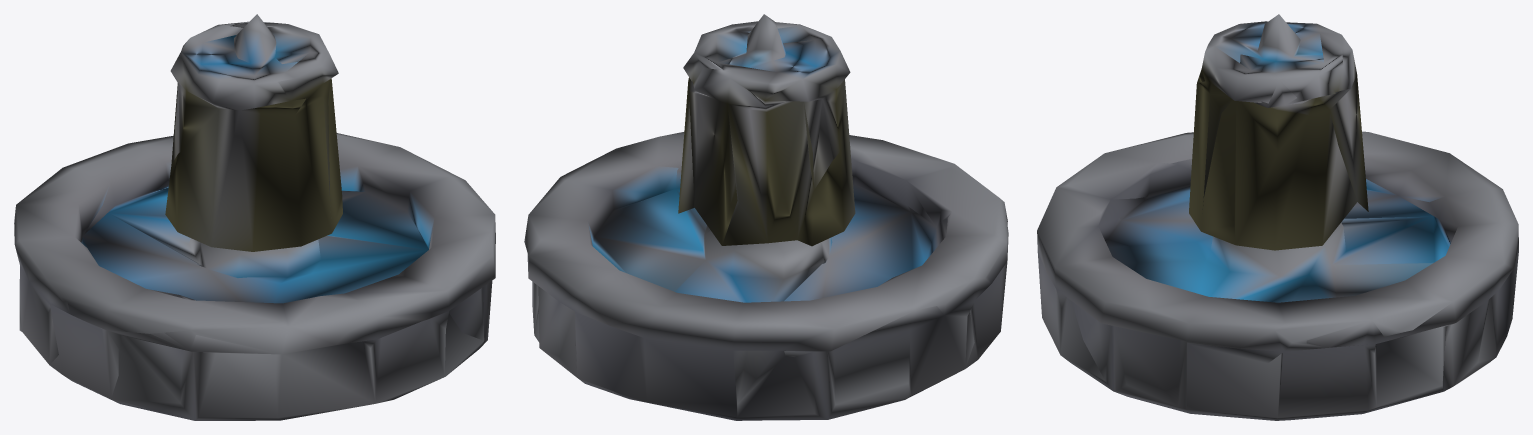
File: gen3d-magic-fountain-lod1.glb
The picture shows the model from 3 angles, left to right: view 1: azimuth 30°, elevation 25°; view 2: azimuth 150°, elevation 25°; view 3: azimuth 270°, elevation 25°; orthographic projection.
Visible parts, largest first — view 1: part_0; view 2: part_0; view 3: part_0.
Boxes of the visible parts, <box> form: part_0: <box>14,14,495,420</box>; part_0: <box>524,14,1008,420</box>; part_0: <box>1037,14,1518,420</box>.
Bounding box in the file's own units: 1.4 × 1 × 1.4.
